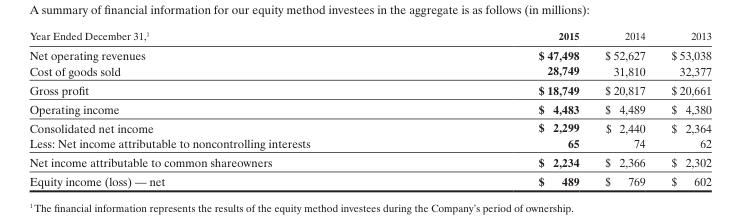table: (28, 29, 710, 188)
table column: (28, 29, 423, 188), (423, 29, 591, 188), (591, 29, 657, 188), (657, 29, 710, 188)
table column header: (28, 29, 710, 44)
table row: (28, 80, 710, 99), (28, 99, 710, 118), (28, 152, 710, 171), (28, 44, 710, 62), (28, 62, 710, 80), (28, 118, 710, 135), (28, 135, 710, 152), (28, 171, 710, 188), (28, 29, 710, 44)
